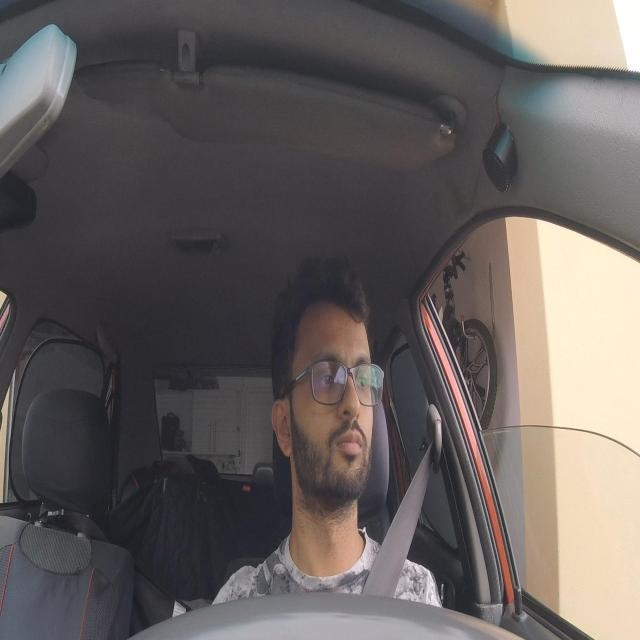open: (314, 352, 344, 402), (352, 352, 371, 404)
